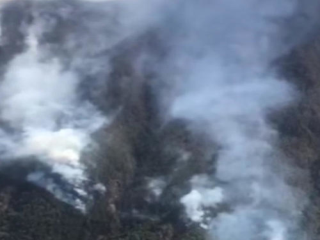smoke: (160, 14, 311, 238), (7, 47, 107, 198)
